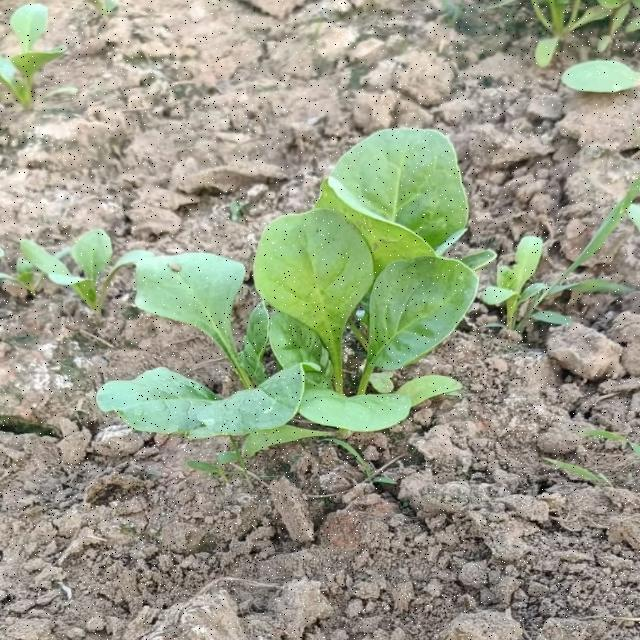plant: (22, 129, 495, 460), (484, 238, 622, 329)
